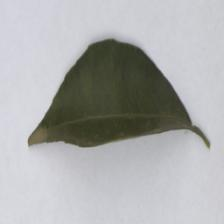healthy: (26, 38, 191, 148)
